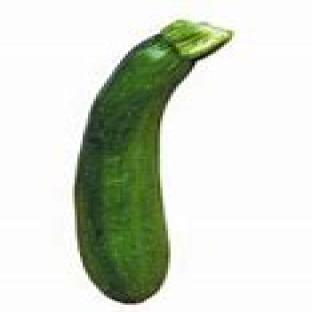Zucchini: (75, 20, 231, 302)
